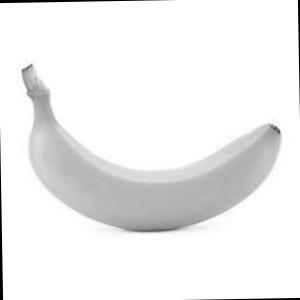fruit: (19, 48, 288, 242)
